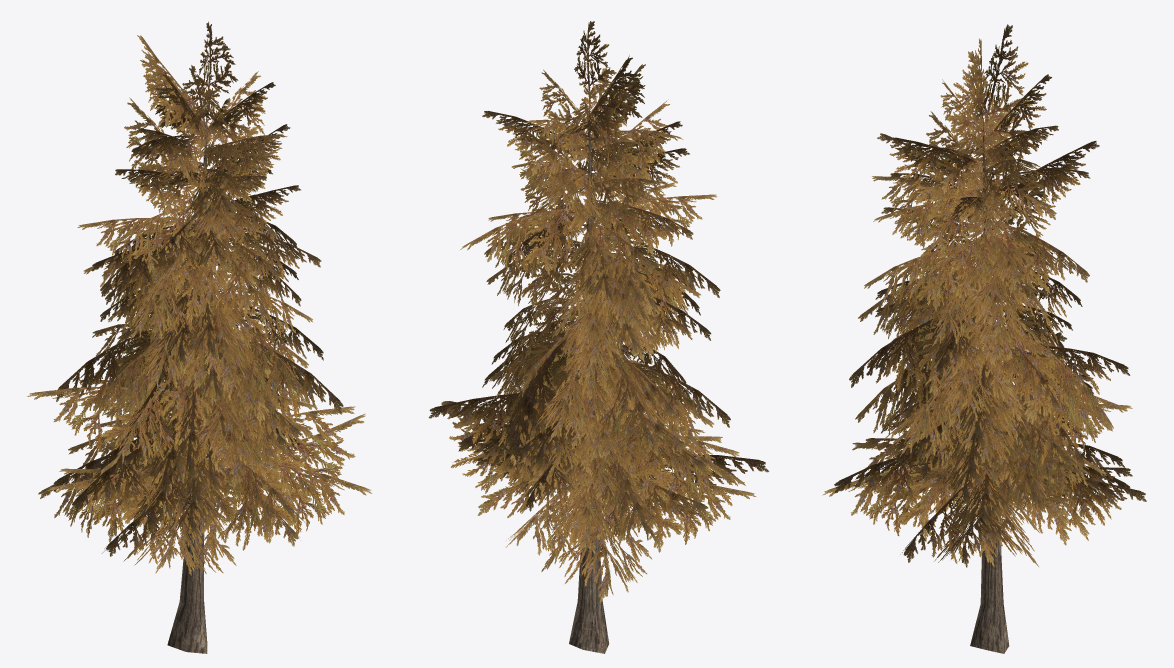
File: Taxodium_Distichum_Autumn_Young.glb
The picture shows the model from 3 angles, left to right: view 1: azimuth 30°, elevation 25°; view 2: azimuth 150°, elevation 25°; view 3: azimuth 270°, elevation 25°; orthographic projection. The views are drawn at different scales.
Visible parts, largest first — view 1: Taxodium_Distichum_Autumn_Young__LOD3; view 2: Taxodium_Distichum_Autumn_Young__LOD3; view 3: Taxodium_Distichum_Autumn_Young__LOD3.
Boxes of the visible parts, bbox=[...] form: Taxodium_Distichum_Autumn_Young__LOD3: bbox=[27, 21, 372, 653]; Taxodium_Distichum_Autumn_Young__LOD3: bbox=[429, 21, 769, 653]; Taxodium_Distichum_Autumn_Young__LOD3: bbox=[822, 24, 1146, 653].
Bounding box in the file's own units: 8.23 × 15.28 × 7.87.
Materials: 2 (2 with a texture image).
